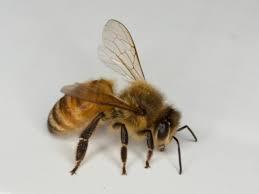Apis-mellifera-scutellata: (45, 15, 201, 178)
